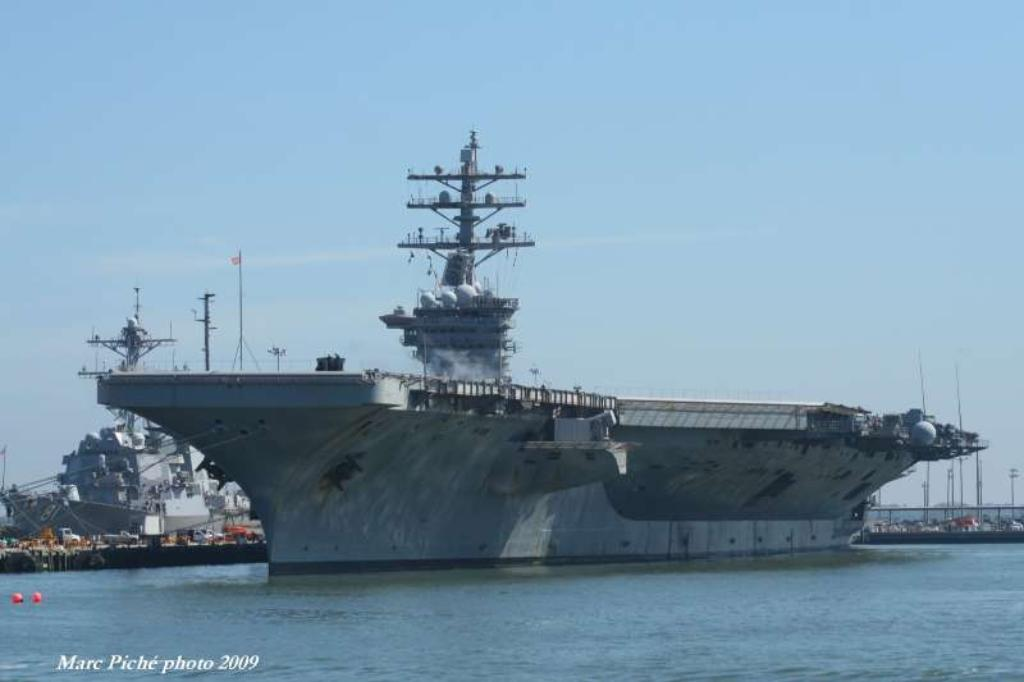Warship: (80, 120, 992, 580), (0, 284, 260, 544)
